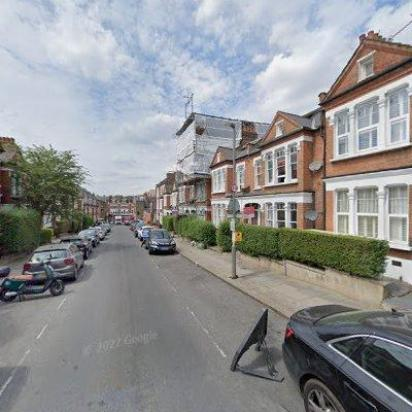stationary-car-onstreet: (282, 302, 412, 412), (21, 242, 85, 284), (60, 236, 94, 260), (146, 228, 176, 254), (78, 229, 100, 247), (134, 225, 154, 239), (89, 225, 105, 238), (101, 223, 111, 232)
stationary-motorcycle-onstreet: (0, 254, 66, 302)
